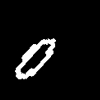chain: (15, 39, 55, 78)
